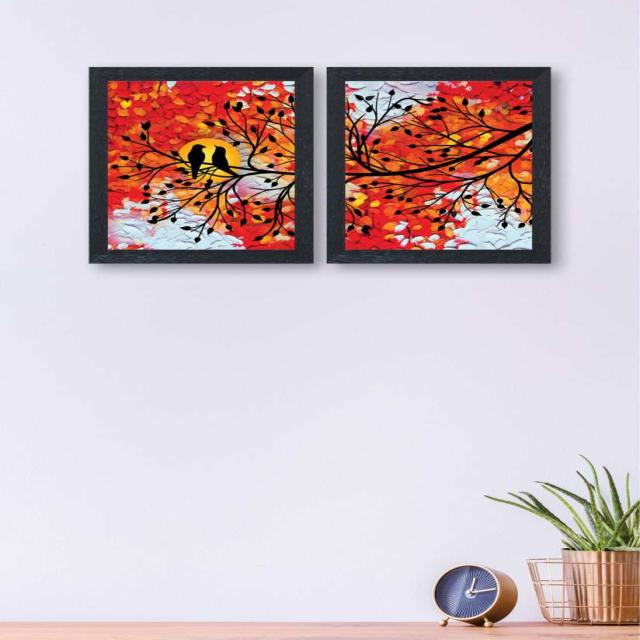painting: (88, 66, 312, 264), (326, 66, 550, 264)
